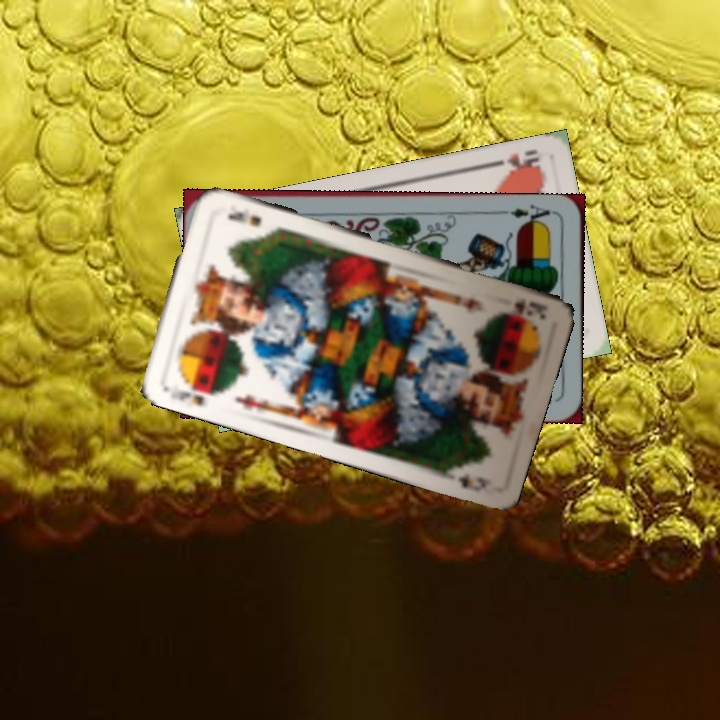EA: (499, 201, 558, 228)
HO: (486, 145, 543, 175)
SK: (159, 372, 221, 409), (511, 294, 551, 322)
